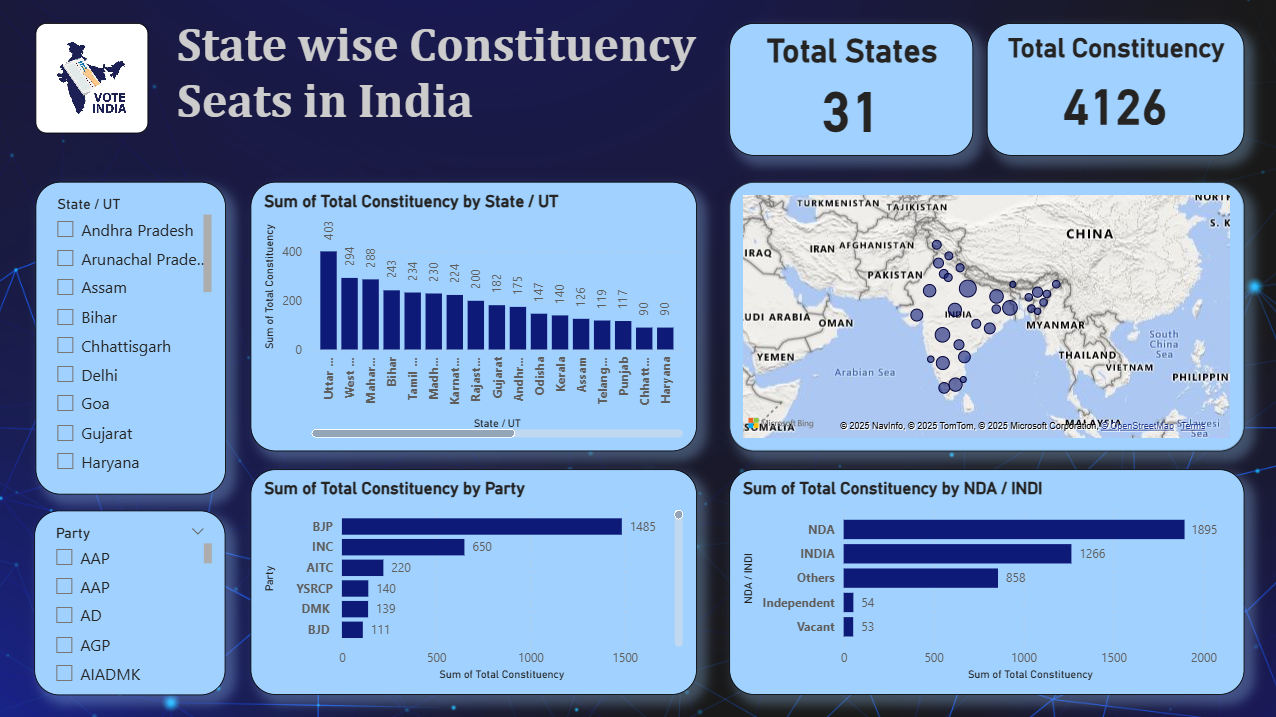

What the dashboard file says about the page in this screenshot:
{"tool":"powerbi","page":{"name":"Page 1","canvas":[1280,720],"ordinal":0},"visuals":[{"type":"card","title":"Total States","fields":{"Values":["Count(Data.State / UT)"]},"box":[731.3,24.5,244.2,132.5],"z":0},{"type":"card","title":"Total Constituency","fields":{"Values":["Count(Data.Total Constituency)"]},"box":[989,24.5,257.7,132.5],"z":1000},{"type":"clusteredColumnChart","fields":{"Category":["Data.State / UT"],"Y":["Sum(Data.Total Constituency)"]},"box":[252.8,184.1,446.6,269.9],"z":2000},{"type":"clusteredBarChart","fields":{"Y":["Sum(Data.Total Constituency)"],"Category":["Data.Party"]},"box":[252.8,471.2,446.6,225.8],"z":3000},{"type":"map","fields":{"Category":["Data.State / UT"],"Size":["Sum(Data.Total Constituency)"]},"box":[731.3,184.1,515.3,269.9],"z":4000},{"type":"clusteredBarChart","fields":{"Y":["Sum(Data.Total Constituency)"],"Category":["Data.NDA / INDI"]},"box":[731.3,471.2,515.3,225.8],"z":5000},{"type":"slicer","fields":{"Values":["Data.State / UT"]},"box":[38,184.1,190.2,312.9],"z":6000},{"type":"slicer","fields":{"Values":["Data.Party"]},"box":[38,512.9,190.2,184.1],"z":6001},{"type":"textbox","box":[174.2,12.3,557.1,133.7],"z":6002},{"type":"image","box":[38,24.5,112.9,110.4],"z":6003}]}

Visuals, with their boxes in screenshot pixels (x1, y1, x2, y2), scaled from the page's 1280x720 canvas onto the 1276x717 screenshot:
"Total States" card: 729,24,972,156
"Total Constituency" card: 986,24,1243,156
clusteredColumnChart - Data.State / UT x Sum(Data.Total Constituency): 252,183,697,452
clusteredBarChart - Sum(Data.Total Constituency) x Data.Party: 252,469,697,694
map - Data.State / UT x Sum(Data.Total Constituency): 729,183,1243,452
clusteredBarChart - Sum(Data.Total Constituency) x Data.NDA / INDI: 729,469,1243,694
slicer - Data.State / UT: 38,183,227,495
slicer - Data.Party: 38,511,227,694
textbox: 174,12,729,145
image: 38,24,150,134
